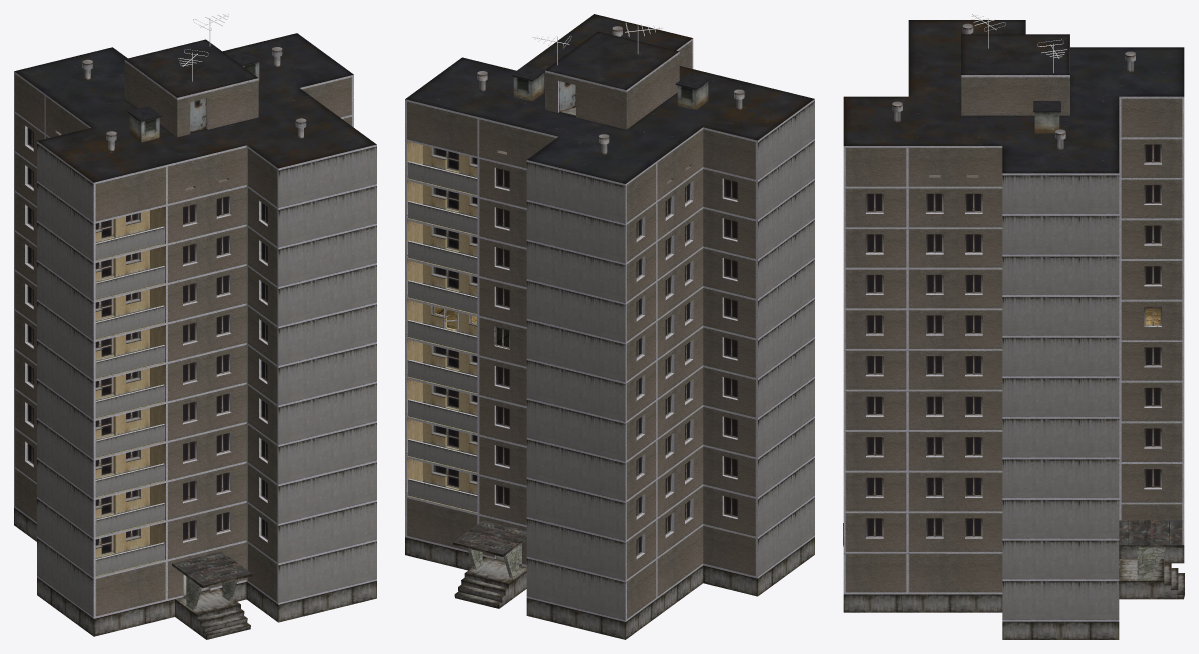
File: panel-house.glb
3 views of the same model, side by side, from view 1: azimuth 30°, elevation 25°; view 2: azimuth 150°, elevation 25°; view 3: azimuth 270°, elevation 25° (orthographic). The views are drawn at different scales.
Parts seen in each view (by area): view 1: Object_2, Object_4; view 2: Object_2, Object_4; view 3: Object_2.
Part boxes in pixels (x1,y1,x2,y2): Object_2: (14, 14, 376, 639); Object_4: (95, 167, 165, 221); Object_2: (405, 14, 814, 639); Object_4: (407, 101, 575, 347); Object_2: (843, 14, 1184, 639).
Bounding box in the file's own units: 104 × 170 × 97.94.
2 materials, 2 textured.
